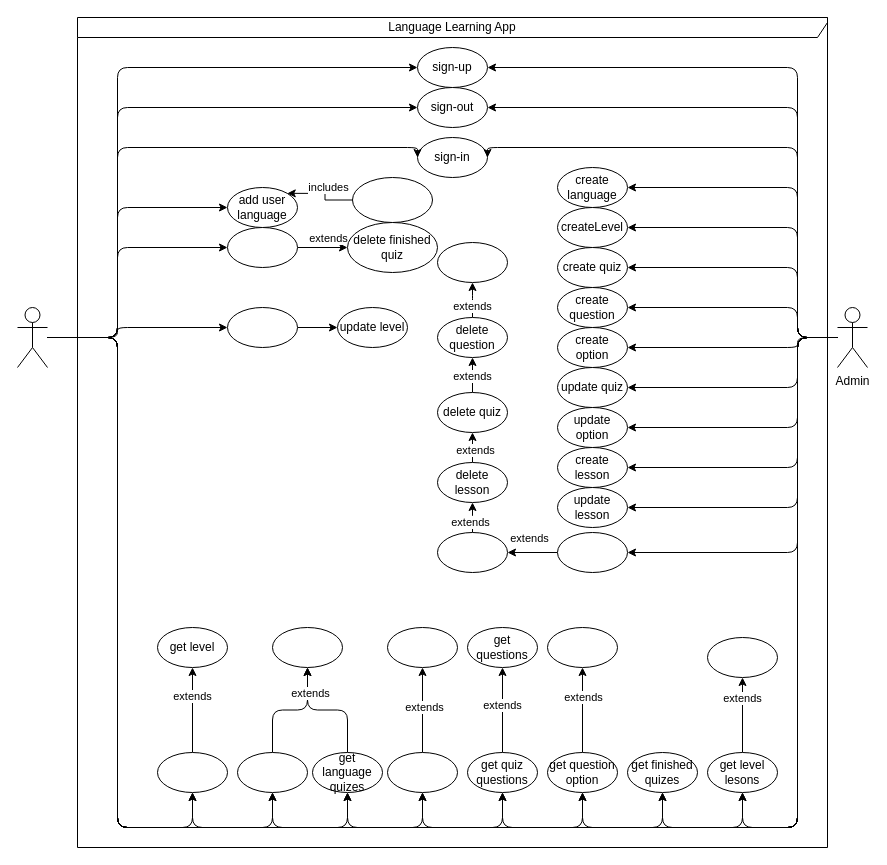
This 887x865 diagram has some shape labels left out. The shapes that lost their labels are listed below. From the top down, each one's box as (x1, y1, x2, y2) in pixels, then its label:
(352, 176, 432, 222): Add spoken/ known language
(226, 226, 298, 268): delete user language
(436, 242, 508, 282): delete option
(16, 306, 48, 368): User
(226, 306, 298, 348): Take Quizes
(436, 532, 508, 572): delete level
(556, 532, 628, 572): delete language
(272, 626, 342, 668): get quiz
(386, 626, 458, 668): get language
(546, 626, 618, 668): get option
(706, 636, 778, 678): get lessons
(156, 752, 228, 792): get language levels
(236, 752, 308, 792): get level quizes
(386, 752, 458, 792): get user languages
